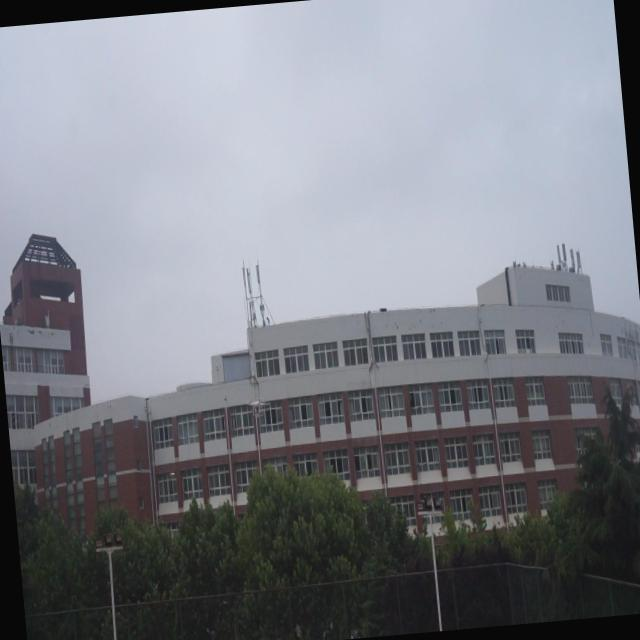drone: (247, 395, 266, 418)
